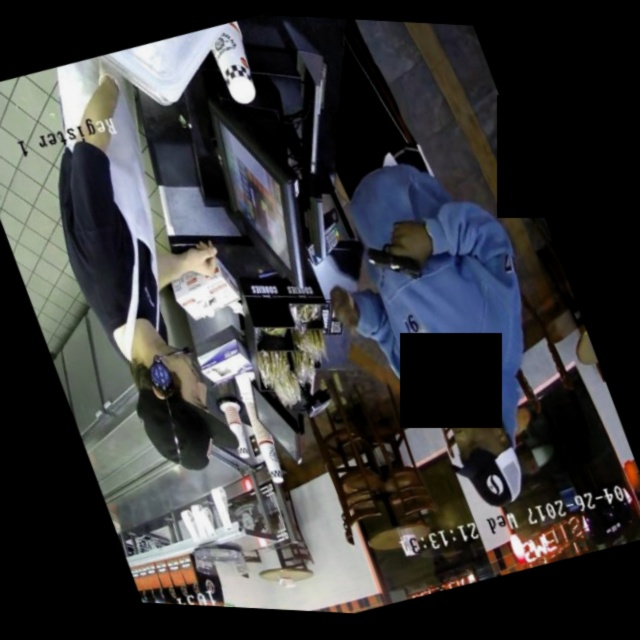gun: (349, 215, 448, 304)
